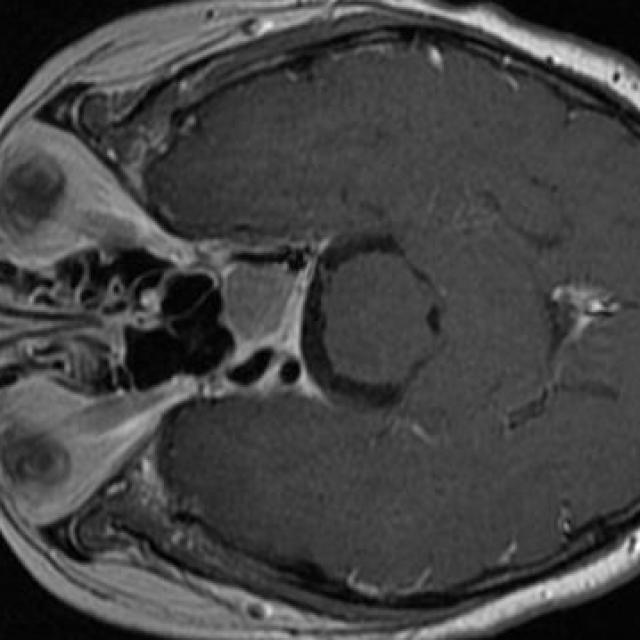pituitary: (223, 267, 294, 346)
